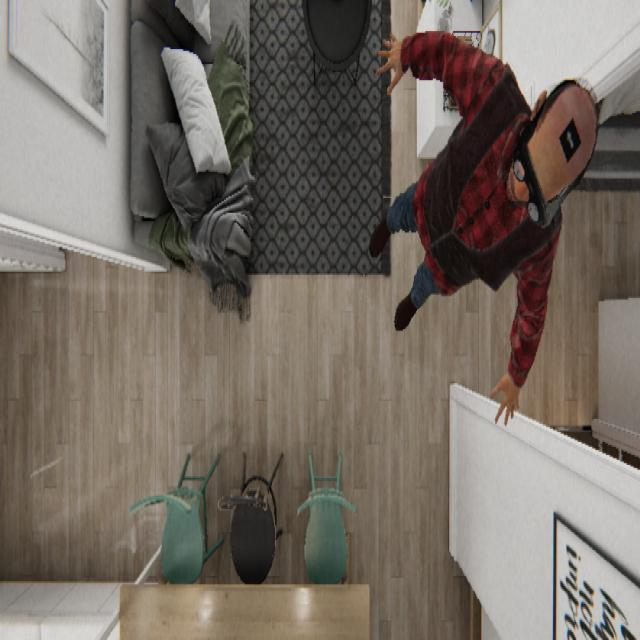Human: (368, 28, 599, 425)
UnityLogo: (557, 113, 582, 164)
